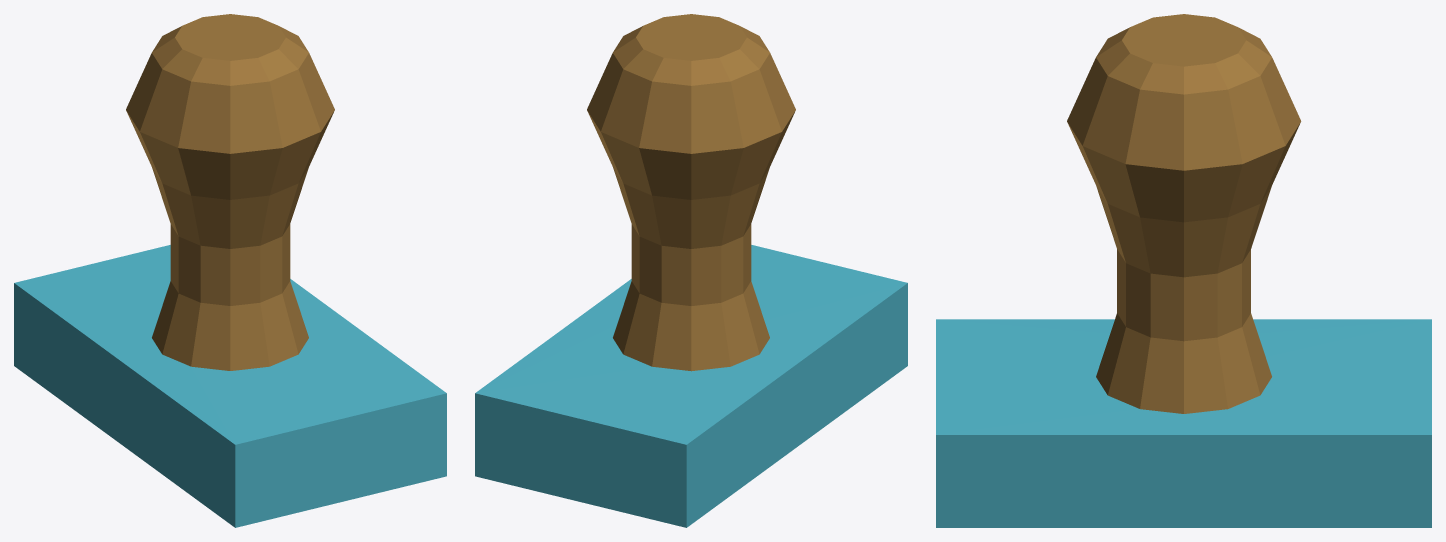
The model's file is NumberStampWood.fbx.
3 renders of one model, left to right at view 1: azimuth 30°, elevation 25°; view 2: azimuth 150°, elevation 25°; view 3: azimuth 270°, elevation 25°, orthographic. The views are drawn at different scales.
Visible parts, largest first — view 1: stamp2; view 2: stamp2; view 3: stamp2.
Part boxes in pixels (x1,y1,x2,y2): stamp2: (14,14,446,527); stamp2: (475,14,907,527); stamp2: (936,14,1431,527).
Bounding box in the file's own units: 155 × 269 × 281.
